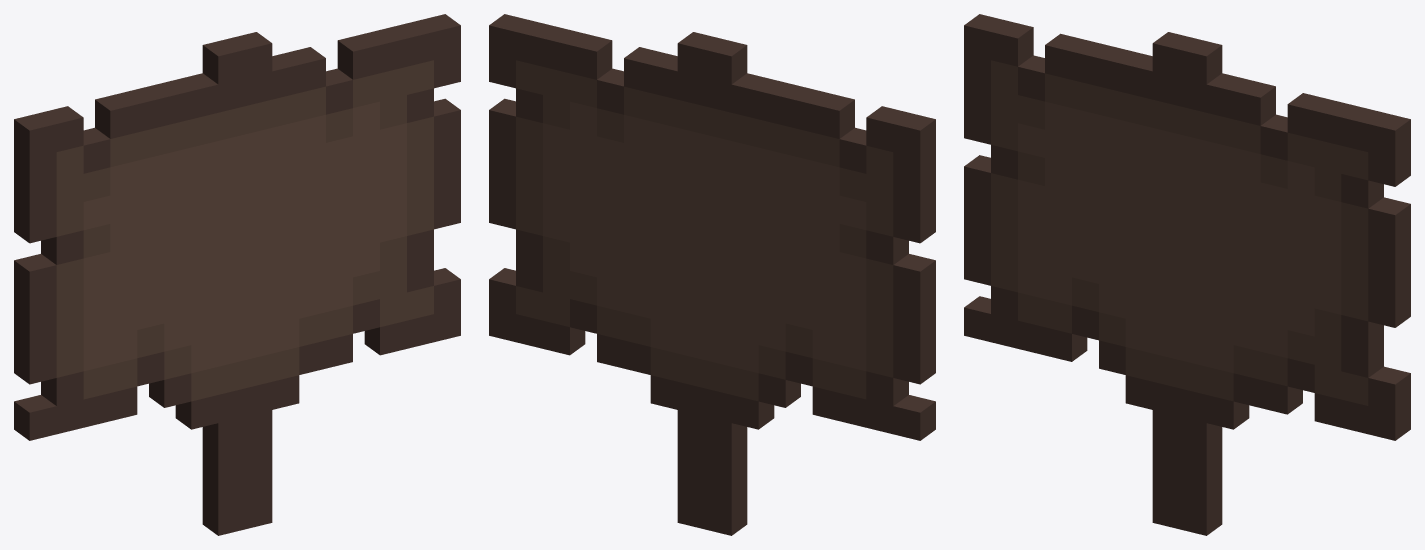
The model's file is sign.obj.
3 renders of one model, left to right at view 1: azimuth 30°, elevation 25°; view 2: azimuth 150°, elevation 25°; view 3: azimuth 330°, elevation 25°, orthographic.
Size of the model in its own units: 1.6 by 1.7 by 0.1.
1 material, 1 textured.
